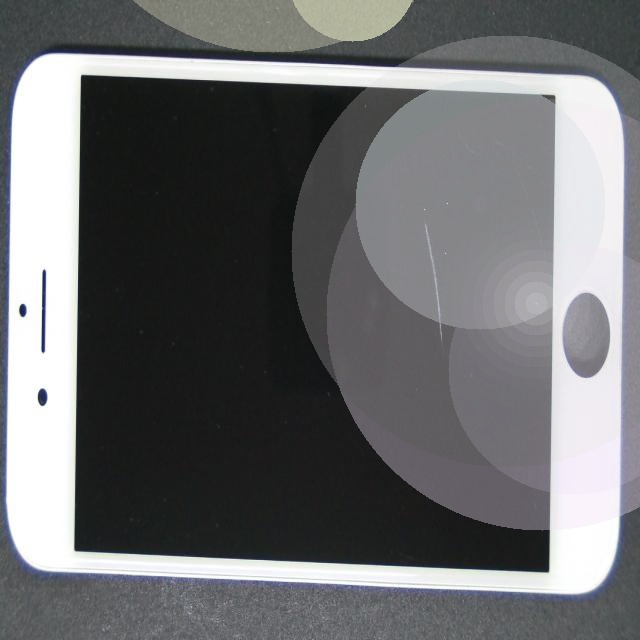scratch: (221, 185, 640, 556)
